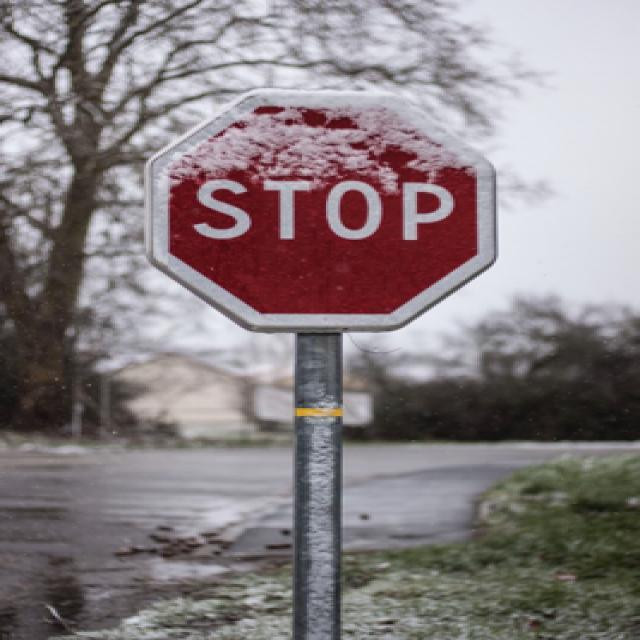stop: (140, 87, 502, 333)
